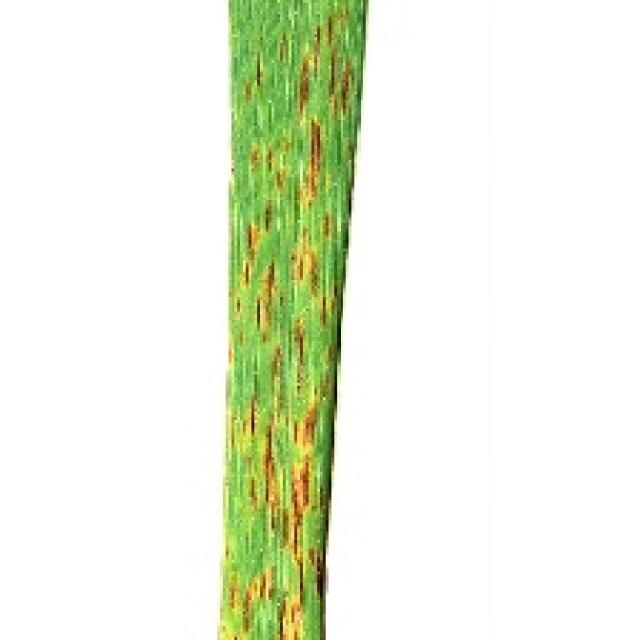Unhealthy: (263, 419, 314, 595), (292, 123, 322, 206), (297, 27, 321, 117), (292, 231, 320, 298), (240, 569, 272, 627), (240, 226, 261, 288), (306, 550, 325, 602), (280, 601, 303, 640), (301, 407, 320, 444), (255, 301, 271, 342), (328, 49, 338, 113), (260, 260, 274, 304), (340, 63, 352, 114), (293, 320, 306, 364), (267, 346, 285, 376), (260, 199, 274, 233), (248, 394, 259, 434), (247, 474, 258, 503), (248, 146, 260, 172), (255, 52, 262, 89), (325, 17, 334, 44), (320, 297, 329, 322), (292, 419, 300, 447), (324, 215, 332, 239), (266, 152, 273, 174)
